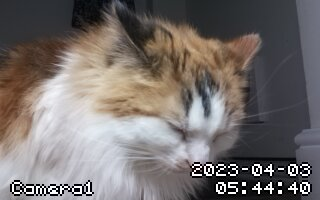clara: (12, 5, 263, 186)
